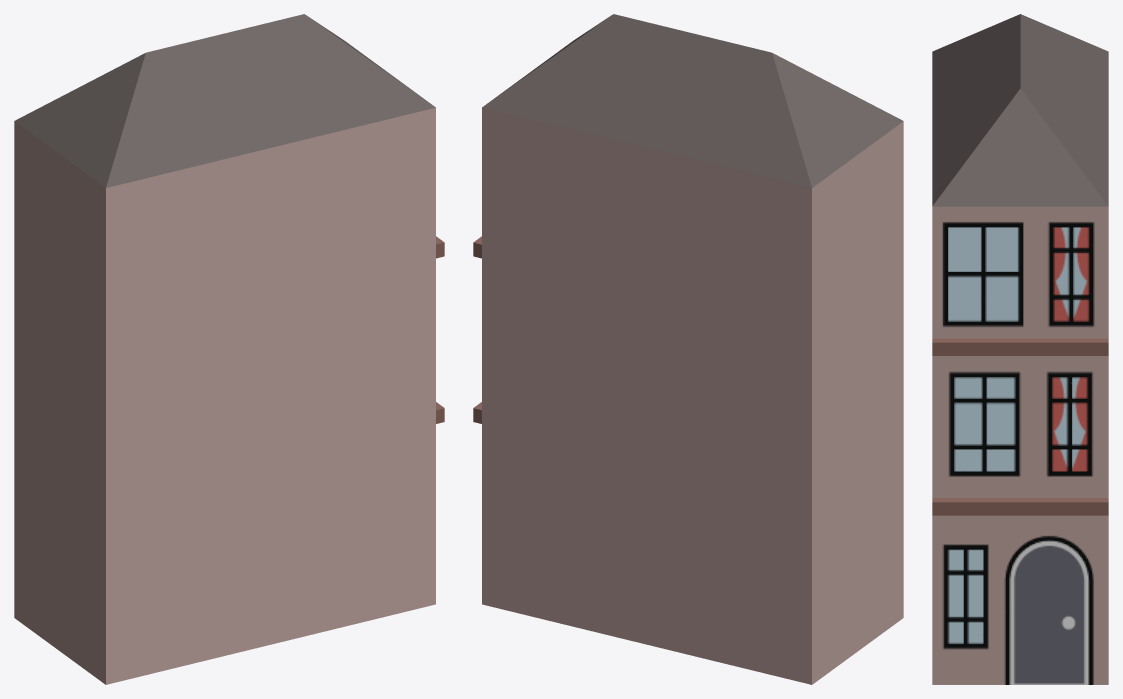
Rendered from StandaardHuis_Var2.fbx.
The picture shows the model from 3 angles, left to right: view 1: azimuth 30°, elevation 25°; view 2: azimuth 150°, elevation 25°; view 3: azimuth 270°, elevation 25°; orthographic projection. The views are drawn at different scales.
Visible parts, largest first — view 1: StandaardHuis_Var2; view 2: StandaardHuis_Var2; view 3: StandaardHuis_Var2.
Part boxes in pixels (x1=…): StandaardHuis_Var2: x1=14, y1=14, x2=444, y2=684; StandaardHuis_Var2: x1=473, y1=14, x2=903, y2=684; StandaardHuis_Var2: x1=932, y1=14, x2=1108, y2=684.
Bounding box in the file's own units: 82.11 × 134 × 38.49.
Materials: 1 (1 with a texture image).
